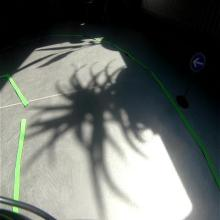left: (189, 52, 205, 71)
